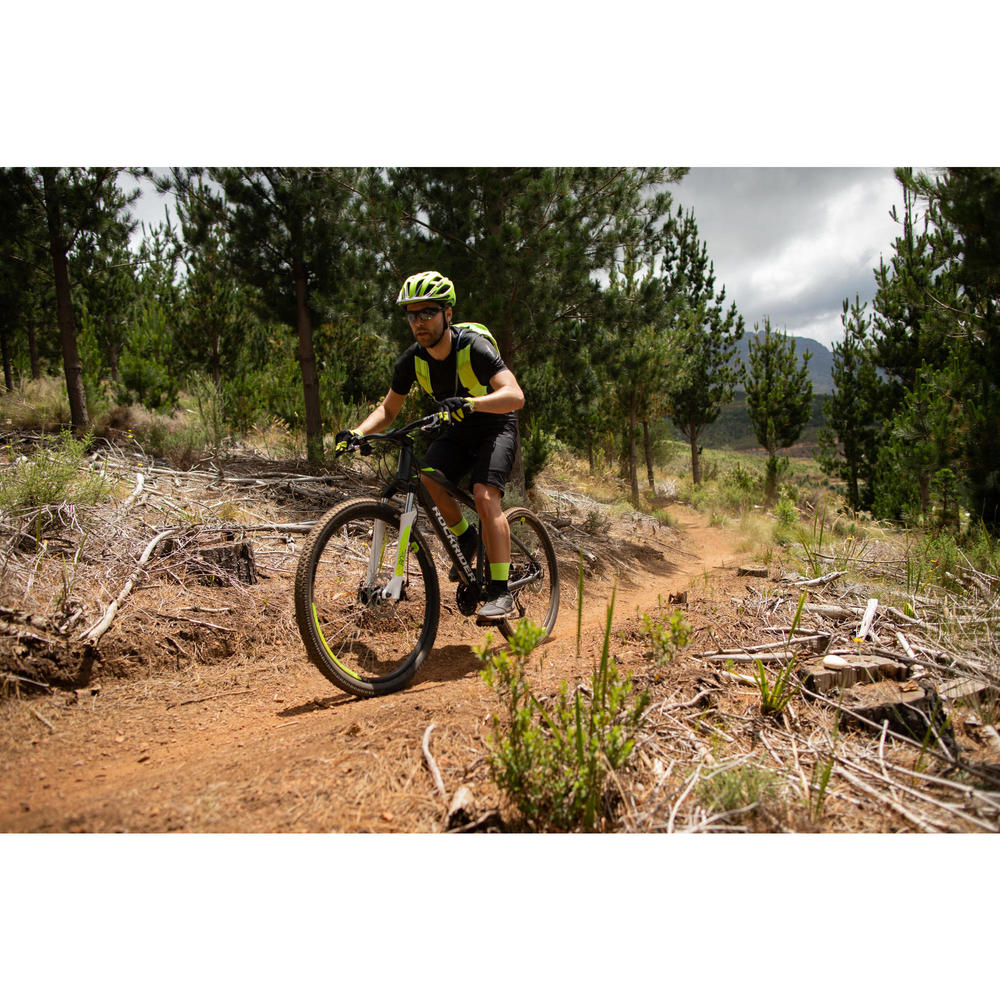MountainBike: (293, 380, 565, 698)
